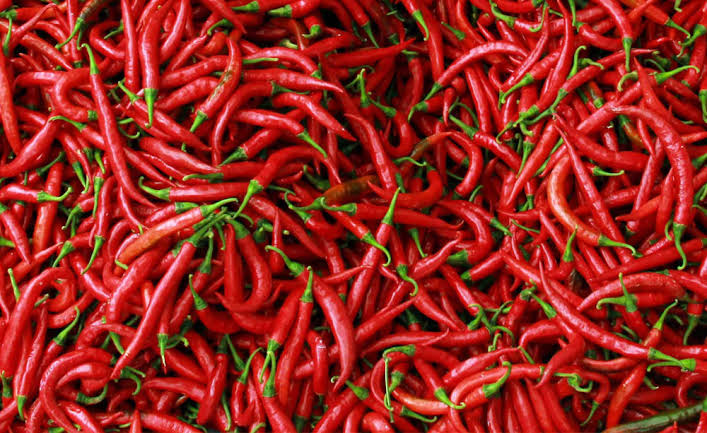Cabai: (168, 67, 532, 364)
